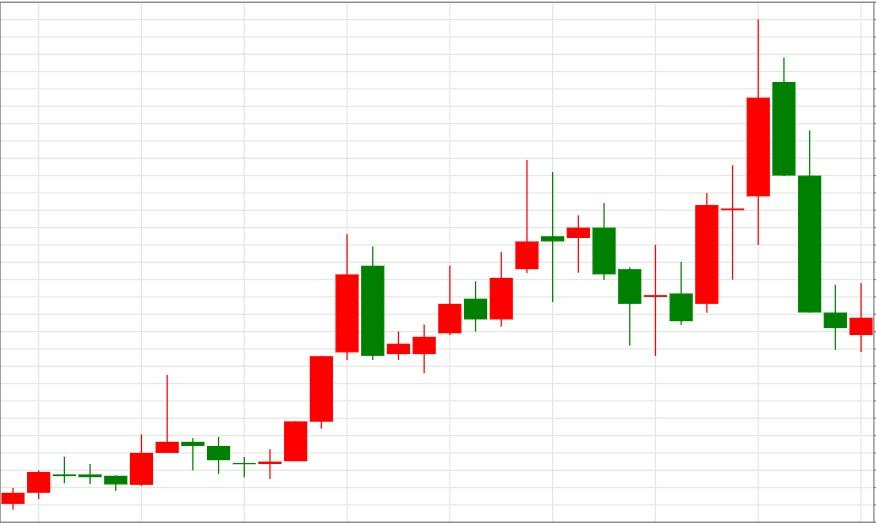three_white_soldiers_rise: (155, 233, 360, 480)
